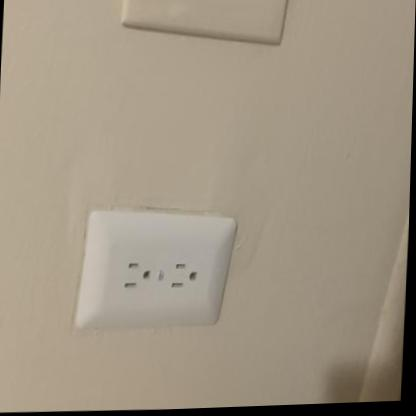OUTLET: (72, 204, 238, 333)
